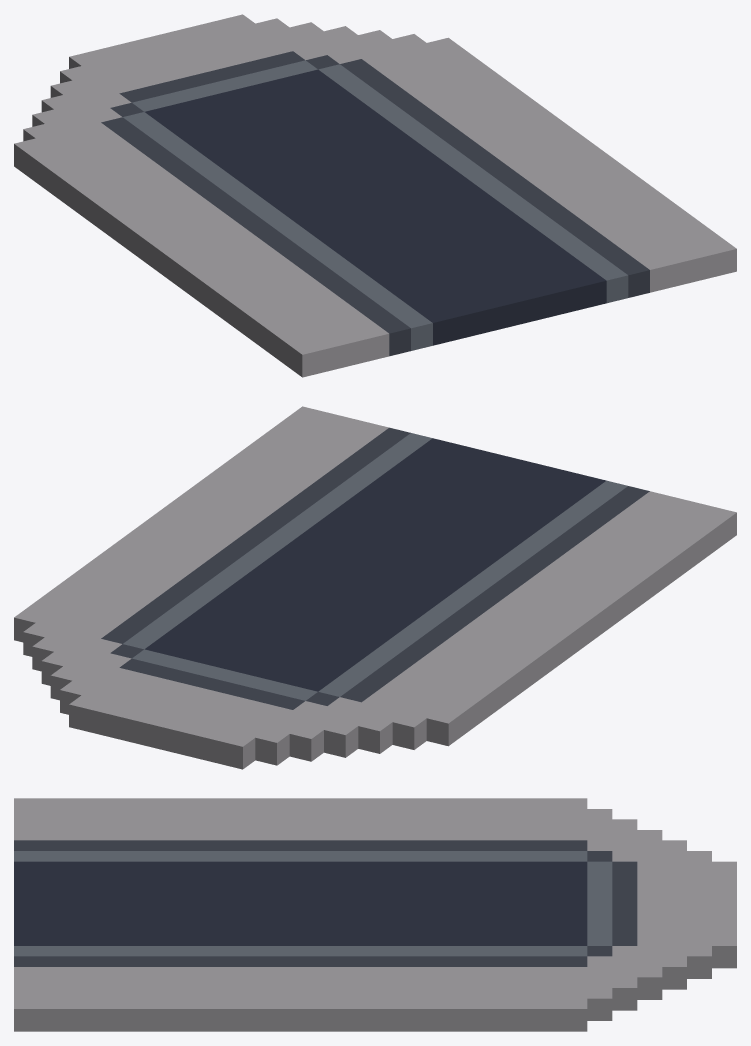
The model's file is Road(1)-3-road 4.obj.
3 views of the same model, one above another, from view 1: azimuth 30°, elevation 25°; view 2: azimuth 150°, elevation 25°; view 3: azimuth 270°, elevation 25° (orthographic).
Parts seen in each view (by area): view 1: road 4; view 2: road 4; view 3: road 4.
Boxes of the visible parts, <box> form: road 4: <box>14,14,736,377</box>; road 4: <box>14,406,736,769</box>; road 4: <box>14,798,736,1031</box>.
Bounding box in the file's own units: 2 × 0.1 × 2.9.
1 material, 1 textured.
